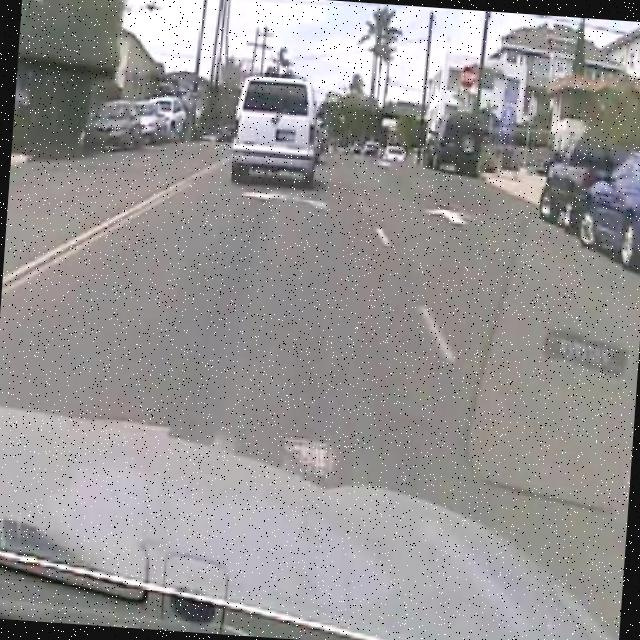Stop: (455, 62, 482, 95)
